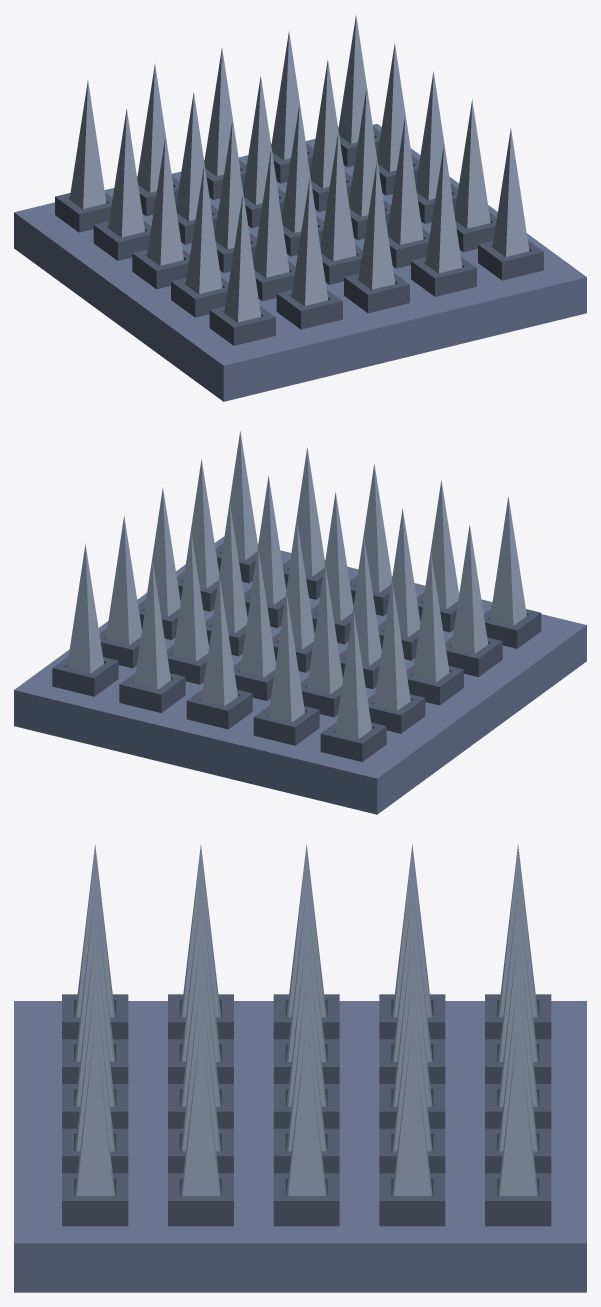
The model's file is trampa 3.fbx.
3 views of the same model, one above another, from view 1: azimuth 30°, elevation 25°; view 2: azimuth 150°, elevation 25°; view 3: azimuth 270°, elevation 25° (orthographic). The views are drawn at different scales.
Parts seen in each view (by area): view 1: spikes floor, spikes; view 2: spikes floor, spikes; view 3: spikes floor, spikes.
Part boxes in pixels (left/top/right/bottom): spikes floor: left=14, top=124, right=586, bottom=401; spikes: left=69, top=14, right=529, bottom=322; spikes floor: left=14, top=536, right=586, bottom=814; spikes: left=67, top=431, right=526, bottom=738; spikes floor: left=14, top=994, right=586, bottom=1292; spikes: left=75, top=844, right=538, bottom=1195.
Bounding box in the file's own units: 211 × 97.2 × 211.
